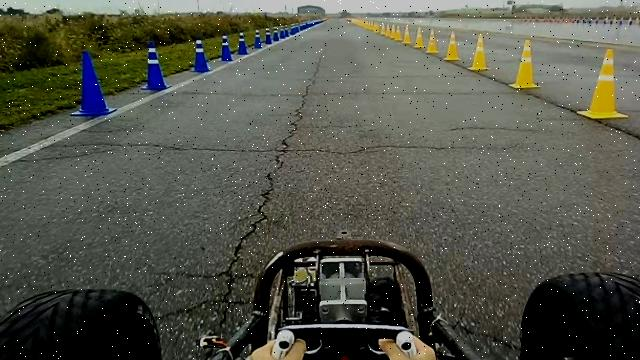blue cone: (69, 50, 117, 117), (140, 40, 171, 91), (190, 36, 211, 72), (219, 32, 234, 62), (237, 30, 249, 54), (253, 28, 262, 48), (264, 28, 272, 44)
yellow cone: (576, 48, 628, 120), (508, 38, 541, 90), (467, 33, 490, 71), (443, 30, 461, 62), (425, 28, 438, 54), (413, 26, 424, 49), (402, 25, 411, 44), (389, 24, 398, 39)
